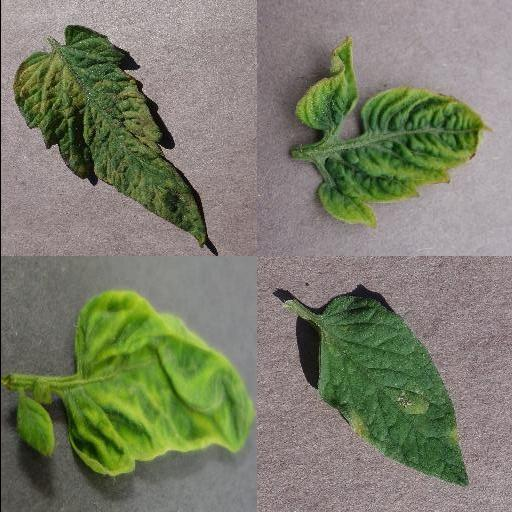Leaf Mold: (14, 24, 206, 246), (319, 293, 467, 487)
Yellow Leaf Curl Virus: (64, 289, 252, 475), (315, 90, 491, 228), (291, 34, 357, 134), (17, 399, 55, 459)
